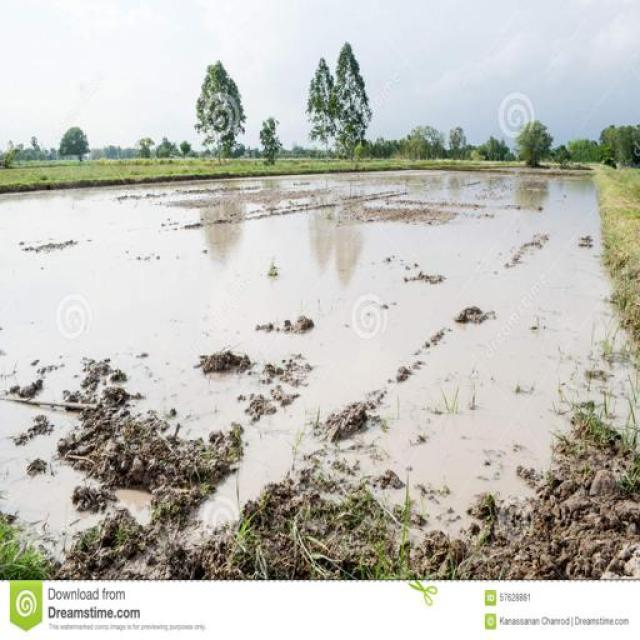puddle: (7, 194, 598, 458), (287, 177, 593, 245)
